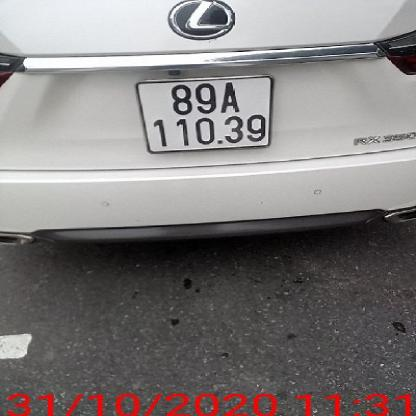biensoxe: (136, 74, 284, 154)
